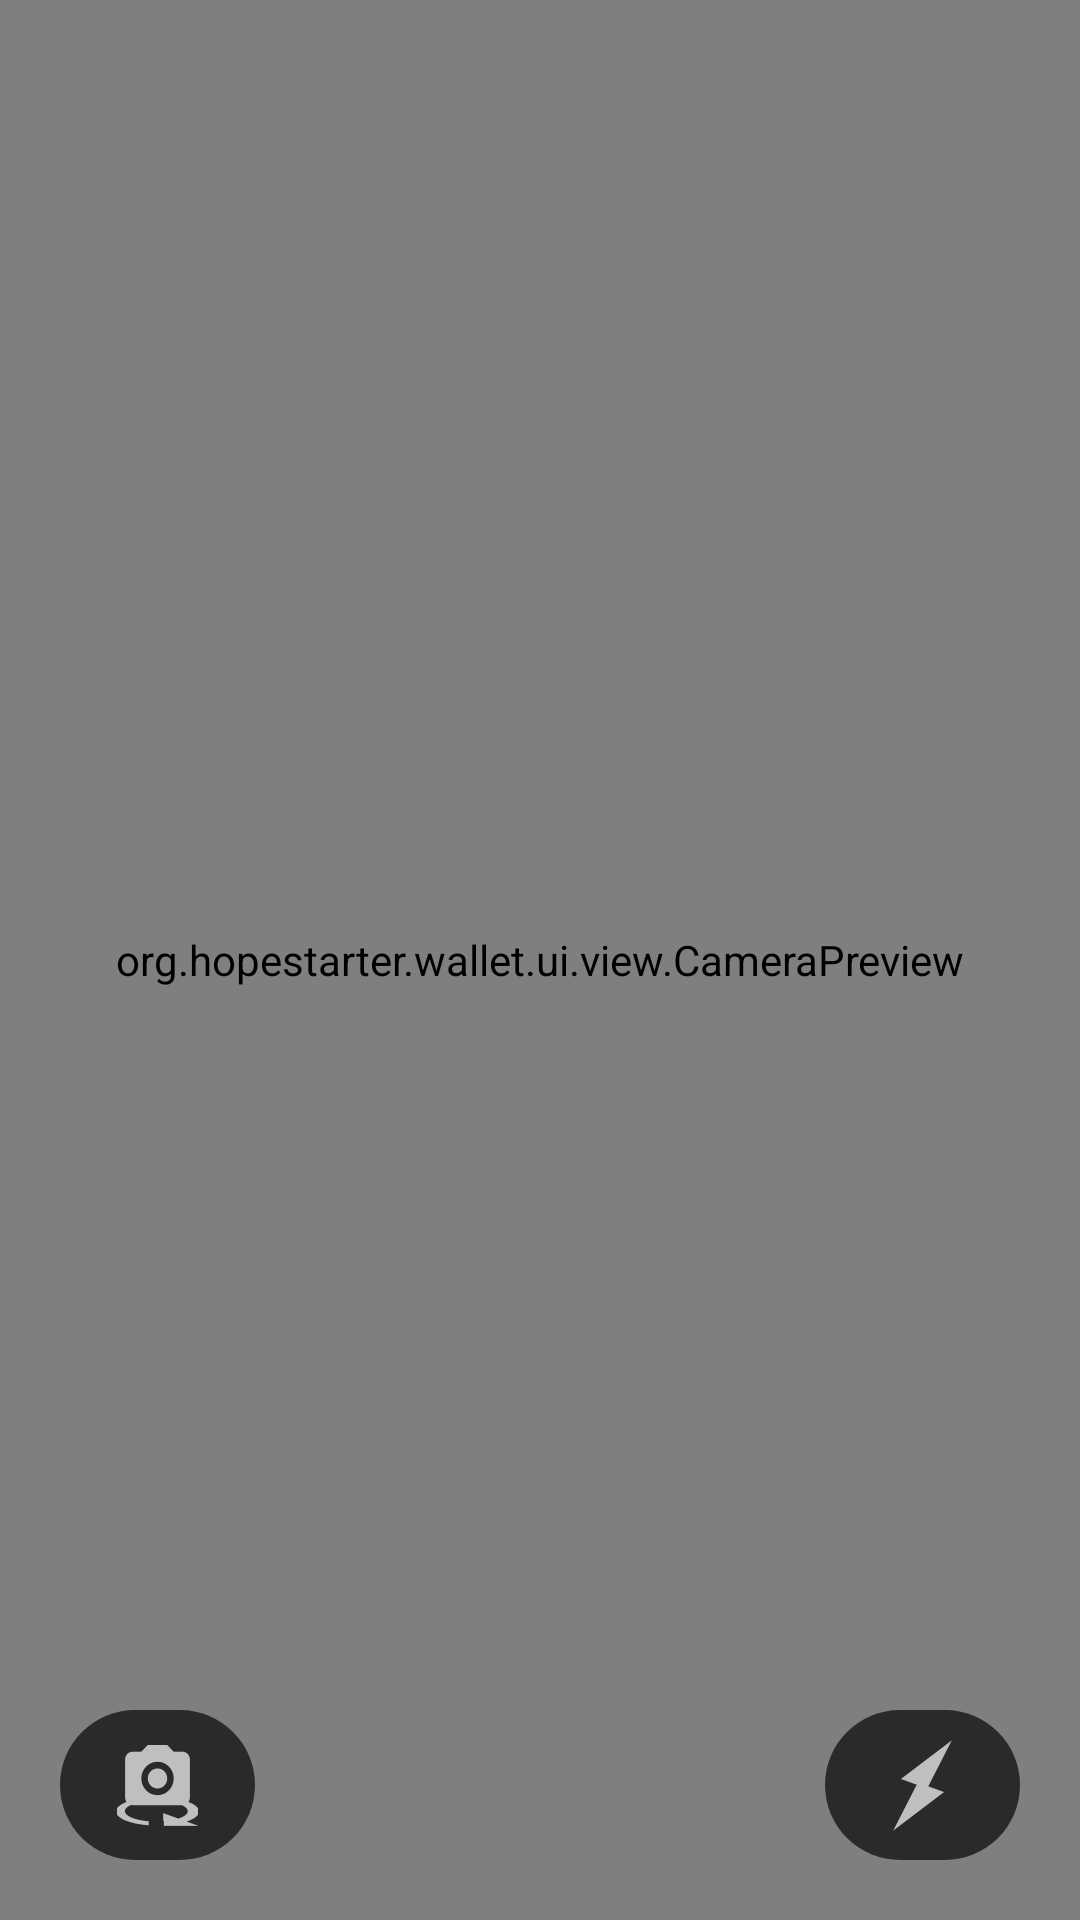

Point at icon controls on the screen. Image size 1080×1920, points as (x,y).
flip camera: (157,1785)
use flash: (922,1785)
